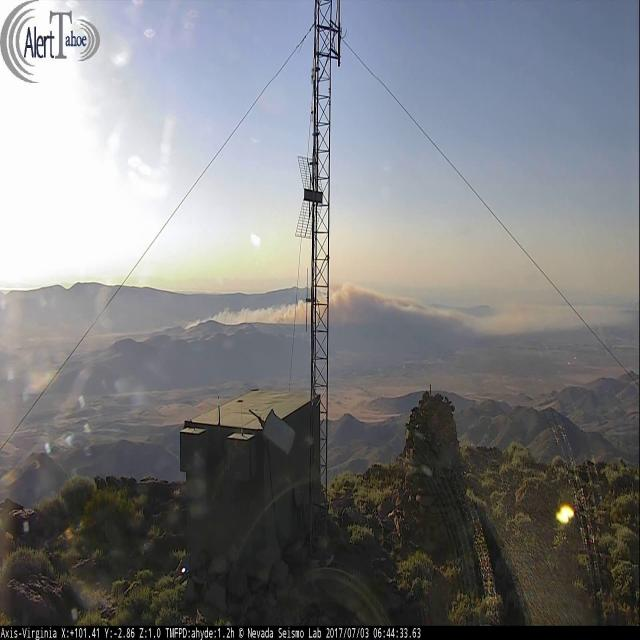smoke: (183, 276, 630, 334)
